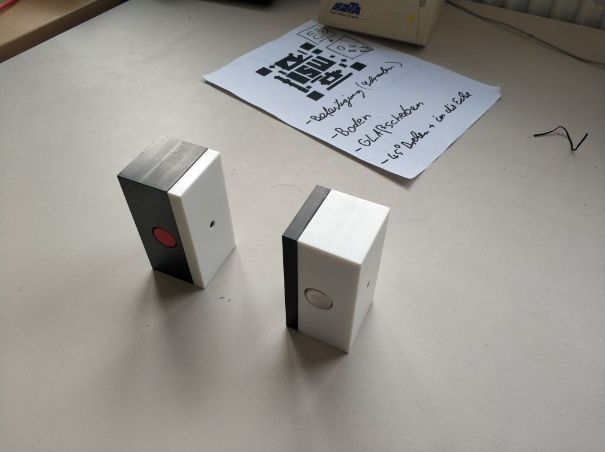black+white+silver: (281, 183, 393, 356)
white+black+red: (113, 132, 239, 292)
